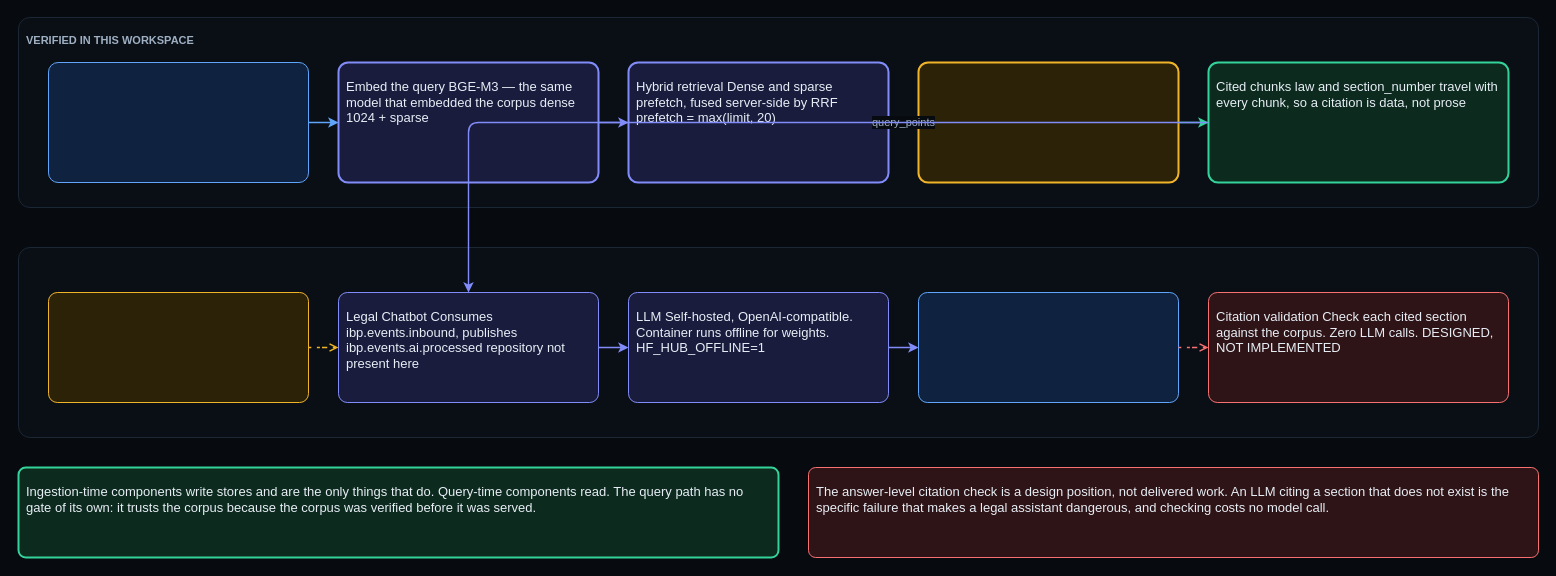
Some shapes in this 1556 by 576 pixel diagram are drawn without their labels. Here are the shapes that lost their labels. From the top down, the box of each, then its label:
(48, 62, 308, 182): Query Operator search, or a question arriving as an event GET /search
(917, 61, 1179, 183): Qdrant One point per chunk; both law families in one collection
(48, 292, 308, 402): Neo4j What each provision cites
(18, 246, 1538, 438): ANSWERING · EXISTING COMPONENT, NOT INSPECTABLE HERE
(918, 292, 1178, 402): Grounded answer Returned with the provisions it was built from
